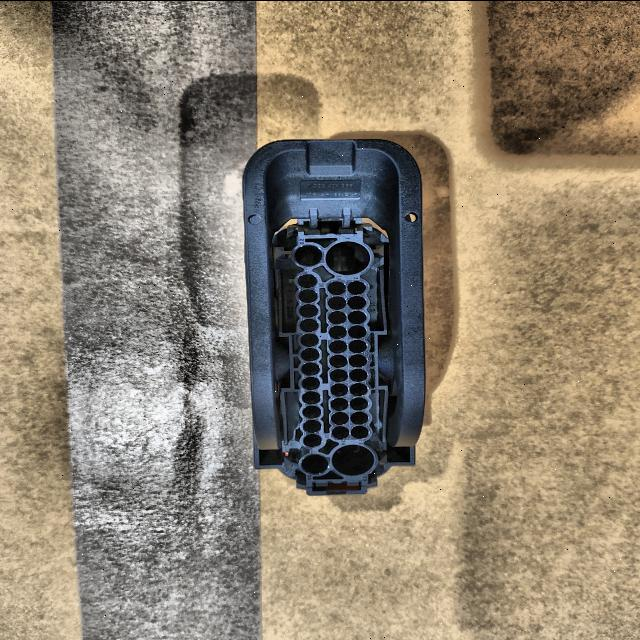P38: (242, 138, 427, 494)
